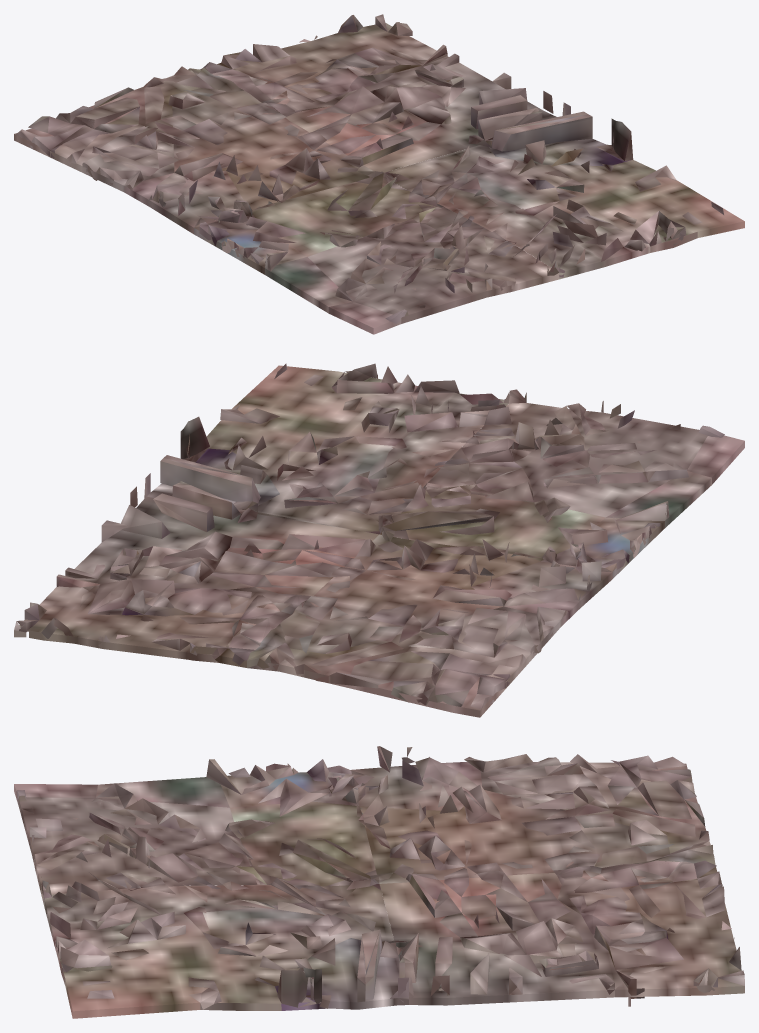
The picture shows the model from 3 angles, top to bottom: view 1: azimuth 30°, elevation 25°; view 2: azimuth 150°, elevation 25°; view 3: azimuth 270°, elevation 25°; orthographic projection. The views are drawn at different scales.
Parts seen in each view (by area): view 1: Mesh_0; view 2: Mesh_0; view 3: Mesh_0.
Part boxes in pixels (<box>): Mesh_0: <box>14,14,744,334</box>; Mesh_0: <box>14,363,744,717</box>; Mesh_0: <box>14,746,744,1018</box>.
Bounding box in the file's own units: 1065 × 119 × 1318.
1 material, 1 textured.
